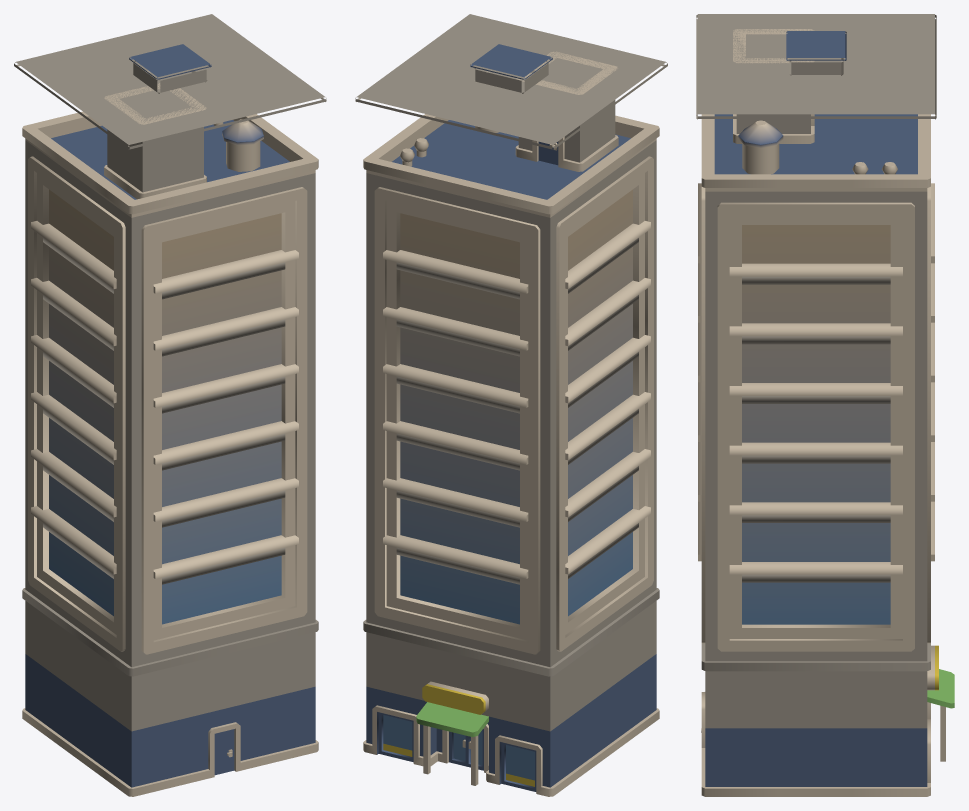
Rendered from building-tall-c.glb.
3 views of the same model, side by side, from view 1: azimuth 30°, elevation 25°; view 2: azimuth 150°, elevation 25°; view 3: azimuth 270°, elevation 25° (orthographic). The views are drawn at different scales.
Visible parts, largest first — view 1: building-tall-c; view 2: building-tall-c; view 3: building-tall-c.
Boxes of the visible parts, x1,y1,x2,y2 form: building-tall-c: (14,14,326,796); building-tall-c: (355,14,667,796); building-tall-c: (696,14,954,796).
Bounding box in the file's own units: 0.7953 × 2.57 × 0.8559.
